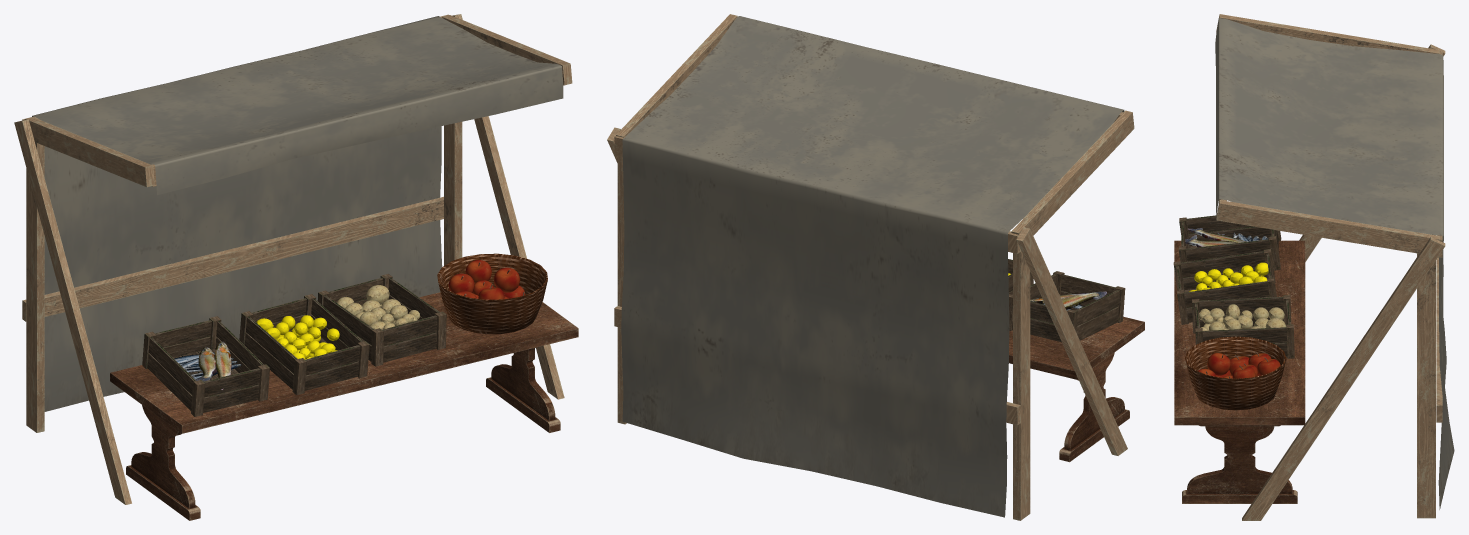
3 renders of one model, left to right at view 1: azimuth 30°, elevation 25°; view 2: azimuth 150°, elevation 25°; view 3: azimuth 270°, elevation 25°, orthographic. The views are drawn at different scales.
Visible parts, largest first — view 1: Plane_cloth, stand, table, box_3, box_1, basket, box_2, lemon, apple, potato, fish_1; view 2: Plane_cloth, stand, table, box_3; view 3: Plane_cloth, stand, table, basket, box_1, box_3, box_2, potato, apple, lemon, fish_1.
Boxes of the visible parts, left/top/right/bottom form: Plane_cloth: left=32, top=16, right=563, bottom=411; stand: left=14, top=14, right=572, bottom=504; table: left=110, top=292, right=578, bottom=520; box_3: left=142, top=316, right=269, bottom=416; box_1: left=239, top=294, right=369, bottom=395; basket: left=437, top=253, right=547, bottom=334; box_2: left=317, top=273, right=446, bottom=366; lemon: left=256, top=315, right=339, bottom=359; apple: left=448, top=260, right=525, bottom=299; potato: left=337, top=285, right=419, bottom=329; fish_1: left=195, top=341, right=231, bottom=390; Plane_cloth: left=621, top=16, right=1124, bottom=517; stand: left=607, top=14, right=1134, bottom=520; table: left=1009, top=316, right=1144, bottom=462; box_3: left=1009, top=271, right=1125, bottom=342; Plane_cloth: left=1215, top=18, right=1454, bottom=509; stand: left=1216, top=14, right=1445, bottom=520; table: left=1174, top=240, right=1305, bottom=503; basket: left=1185, top=336, right=1286, bottom=410; box_1: left=1173, top=248, right=1276, bottom=324; box_3: left=1178, top=215, right=1281, bottom=270; box_2: left=1192, top=295, right=1294, bottom=358; potato: left=1198, top=304, right=1286, bottom=330; apple: left=1198, top=352, right=1280, bottom=378; lemon: left=1189, top=262, right=1268, bottom=291; fish_1: left=1185, top=228, right=1246, bottom=247.
Bounding box in the file's own units: 312 × 234 × 190.
Materials: 7 (7 with a texture image).
